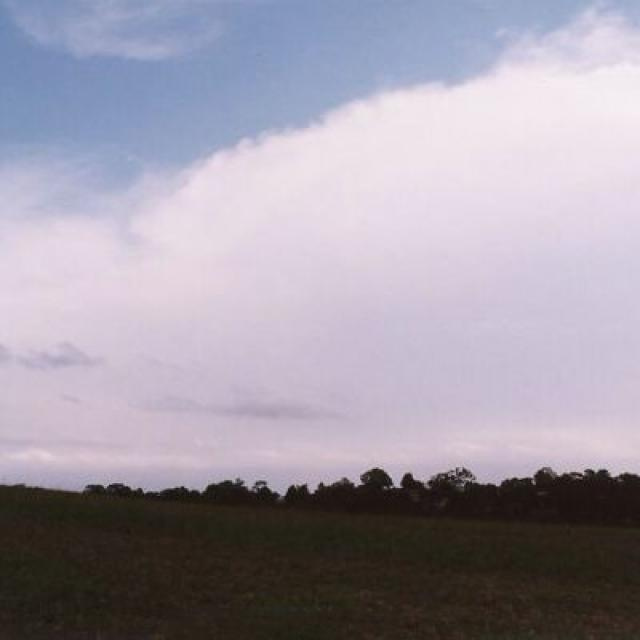St: (4, 19, 640, 446)
